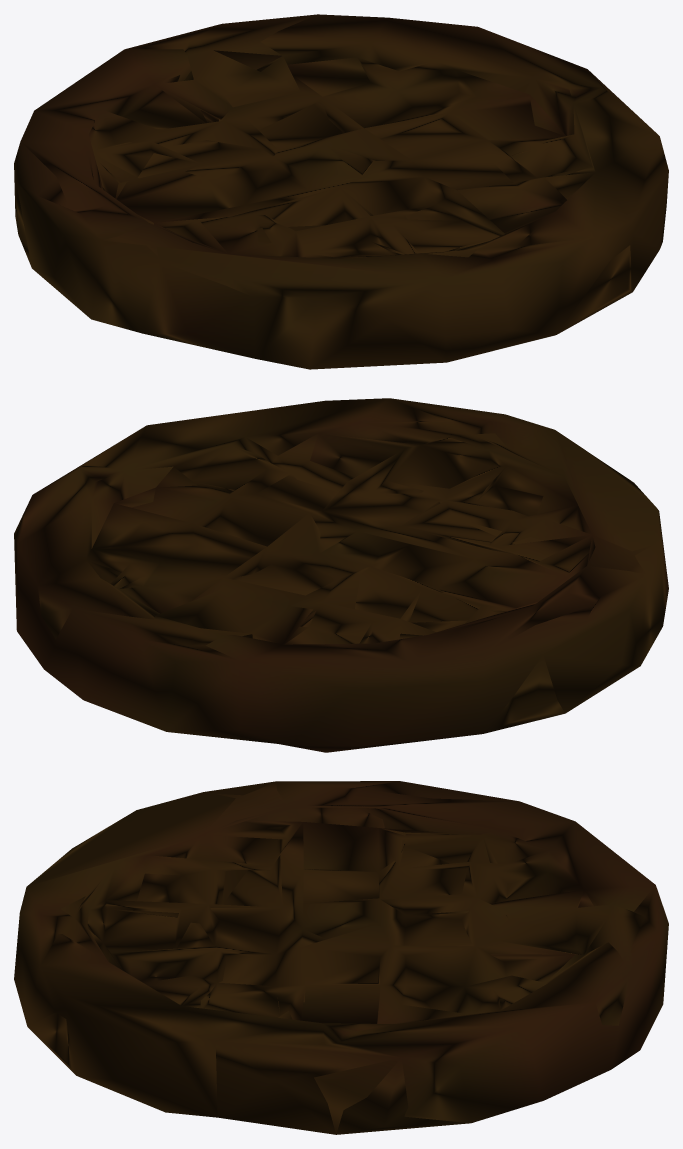
The model's file is gen3d-manhole-cover-lod1.glb.
3 renders of one model, top to bottom at view 1: azimuth 30°, elevation 25°; view 2: azimuth 150°, elevation 25°; view 3: azimuth 270°, elevation 25°, orthographic.
Parts seen in each view (by area): view 1: part_0; view 2: part_0; view 3: part_0.
Boxes of the visible parts, <box> form: part_0: <box>14,14,668,369</box>; part_0: <box>14,398,668,752</box>; part_0: <box>14,781,668,1134</box>.
Size of the model in its own units: 6.93 by 0.9997 by 6.95.
